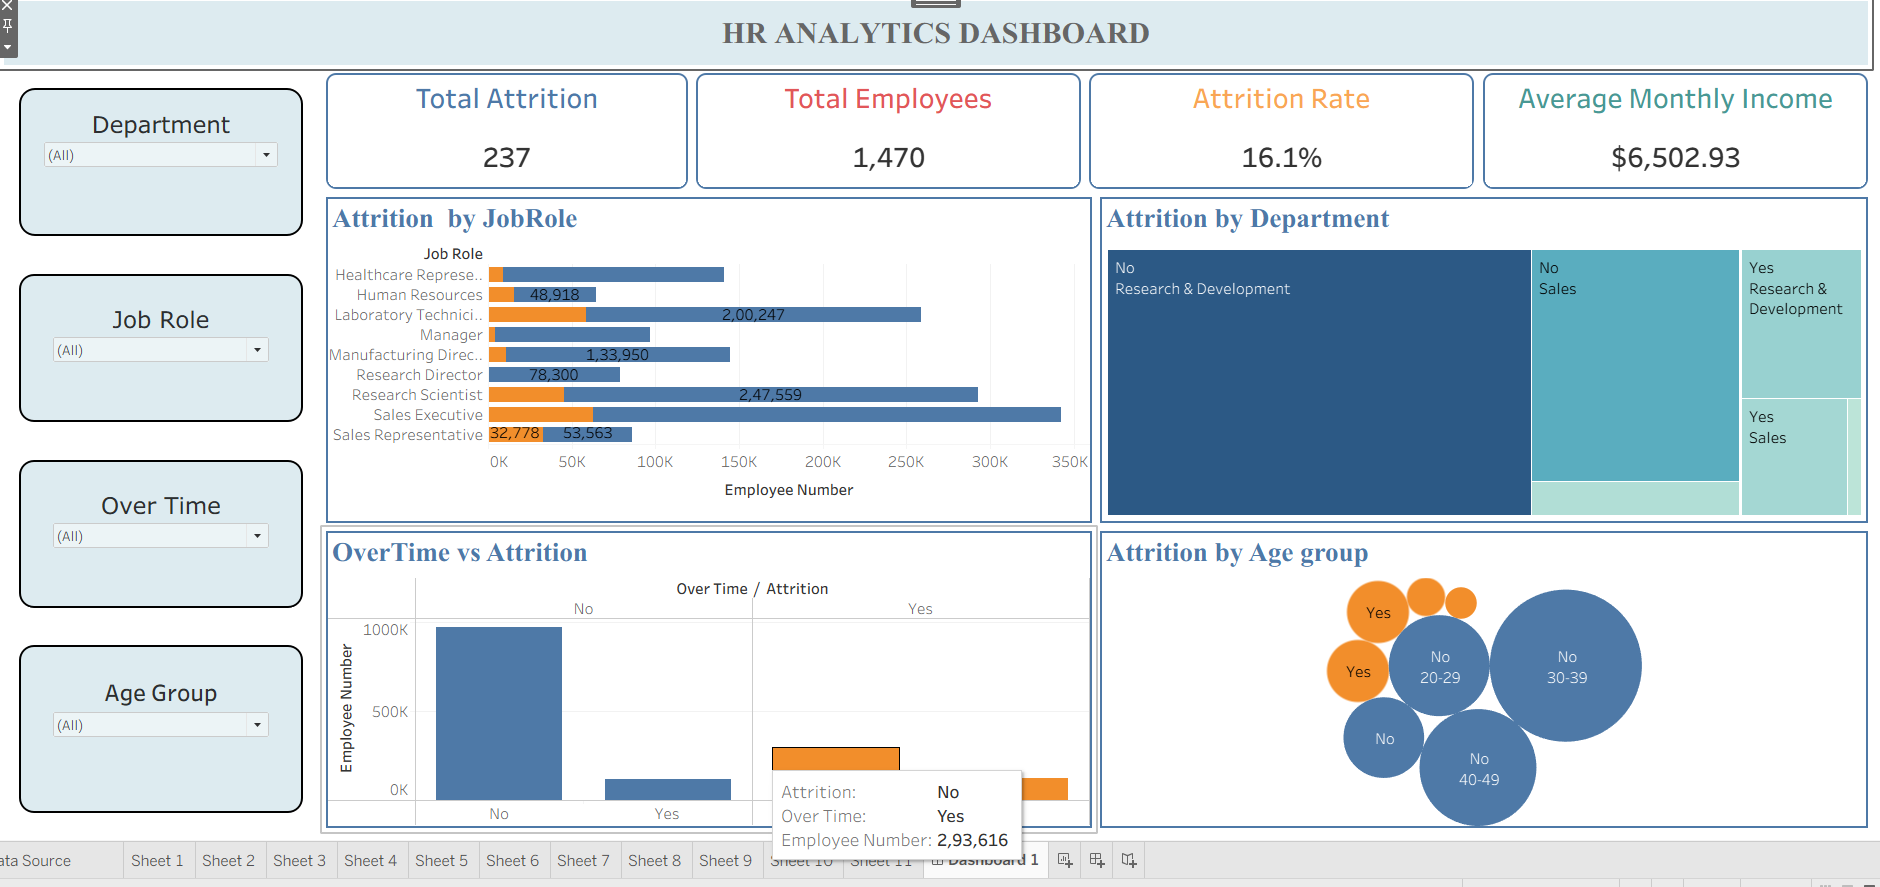

The page's visual inventory and layout, read from the dashboard file:
{"tool":"tableau","page":{"name":"Dashboard 1","canvas":[1000,1000],"units":"permille","ordinal":0},"visuals":[{"type":"text","box":[4.2,9.4,991.5,84.6]},{"type":"filter","title":"Sheet 2","param":"[federated.0omxadv0mo5pp715dfdiy1y0pjm6].[none:Department:nk]","box":[4.2,94,170.4,218.3]},{"type":"worksheet","title":"Sheet 9","mark":"Automatic","box":[174.6,94,196,145.7]},{"type":"worksheet","title":"Sheet 8","mark":"Automatic","box":[370.6,94,208.4,145.7]},{"type":"worksheet","title":"Sheet 10","mark":"Automatic","box":[579,94,208.4,145.7]},{"type":"worksheet","title":"Sheet 11","mark":"Automatic","box":[787.4,94,208.4,145.7]},{"type":"worksheet","title":"Sheet 2","mark":"Automatic","rows":["JobRole"],"cols":["EmployeeNumber"],"box":[174.6,239.7,410.2,392.5]},{"type":"worksheet","title":"Sheet 1","mark":"Automatic","box":[584.8,239.7,411,392.5]},{"type":"filter","title":"Sheet 2","param":"[federated.0omxadv0mo5pp715dfdiy1y0pjm6].[none:JobRole:nk]","box":[4.2,312.3,170.4,218.3]},{"type":"filter","title":"Sheet 5","param":"[federated.0omxadv0mo5pp715dfdiy1y0pjm6].[none:OverTime:nk]","box":[4.2,530.6,170.4,218.3]},{"type":"worksheet","title":"Sheet 5","mark":"Automatic","rows":["EmployeeNumber"],"cols":["OverTime","Attrition"],"box":[174.6,632.2,410.2,358.4]},{"type":"worksheet","title":"Sheet 4","mark":"Circle","box":[584.8,632.2,411,358.4]},{"type":"filter","title":"Sheet 4","param":"[federated.0omxadv0mo5pp715dfdiy1y0pjm6].[none:AgeGroup:nk]","box":[4.2,749,170.4,241.6]}]}

Visuals, with their boxes on the dashboard's canvas, which has no fixed pixel size, in thousandths of its width and height (x1, y1, x2, y2). These are canvas units, not pixel positions in the 1880x887 screenshot, which may show the page scaled, cropped or inside an application window:
text: 4/9/996/94
"Sheet 2" filter: 4/94/175/312
"Sheet 9" worksheet: 175/94/371/240
"Sheet 8" worksheet: 371/94/579/240
"Sheet 10" worksheet: 579/94/787/240
"Sheet 11" worksheet: 787/94/996/240
"Sheet 2" worksheet: 175/240/585/632
"Sheet 1" worksheet: 585/240/996/632
"Sheet 2" filter: 4/312/175/531
"Sheet 5" filter: 4/531/175/749
"Sheet 5" worksheet: 175/632/585/991
"Sheet 4" worksheet (Circle marks): 585/632/996/991
"Sheet 4" filter: 4/749/175/991
